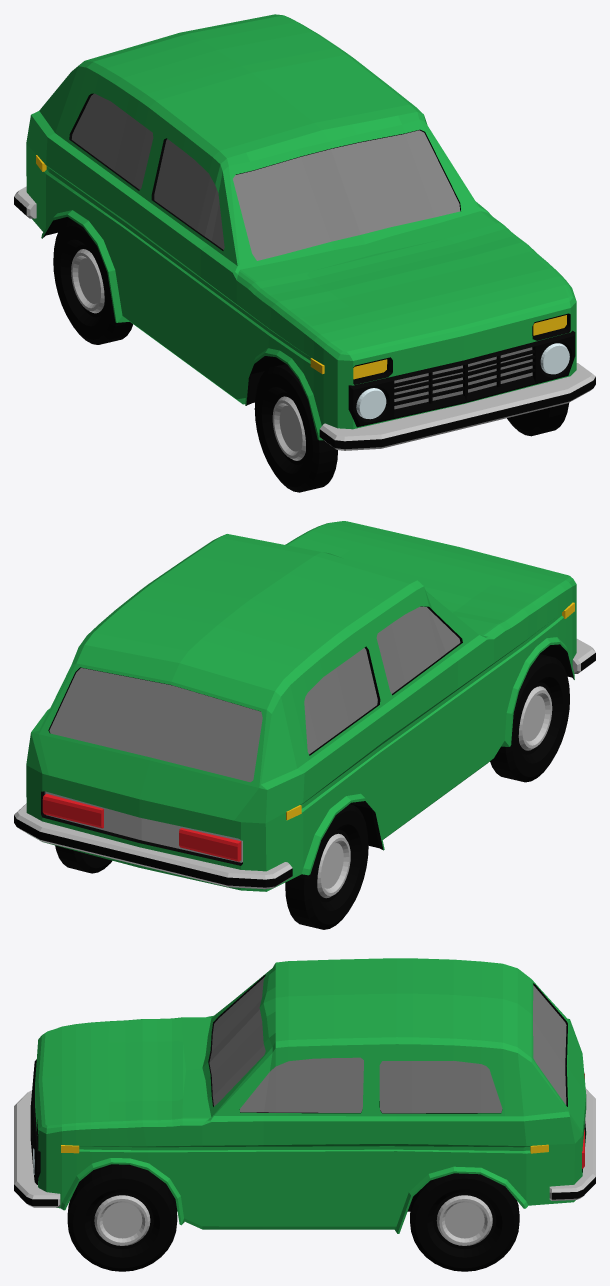
File: Пробка Авто 4.fbx
The picture shows the model from 3 angles, top to bottom: view 1: azimuth 30°, elevation 25°; view 2: azimuth 150°, elevation 25°; view 3: azimuth 270°, elevation 25°; orthographic projection. The views are drawn at different scales.
Visible parts, largest first — view 1: Cube; view 2: Cube; view 3: Cube.
Part boxes in pixels (<box>): Cube: <box>14,14,595,492</box>; Cube: <box>14,521,595,929</box>; Cube: <box>14,958,595,1271</box>.
Size of the model in its own units: 129 by 123 by 286.
